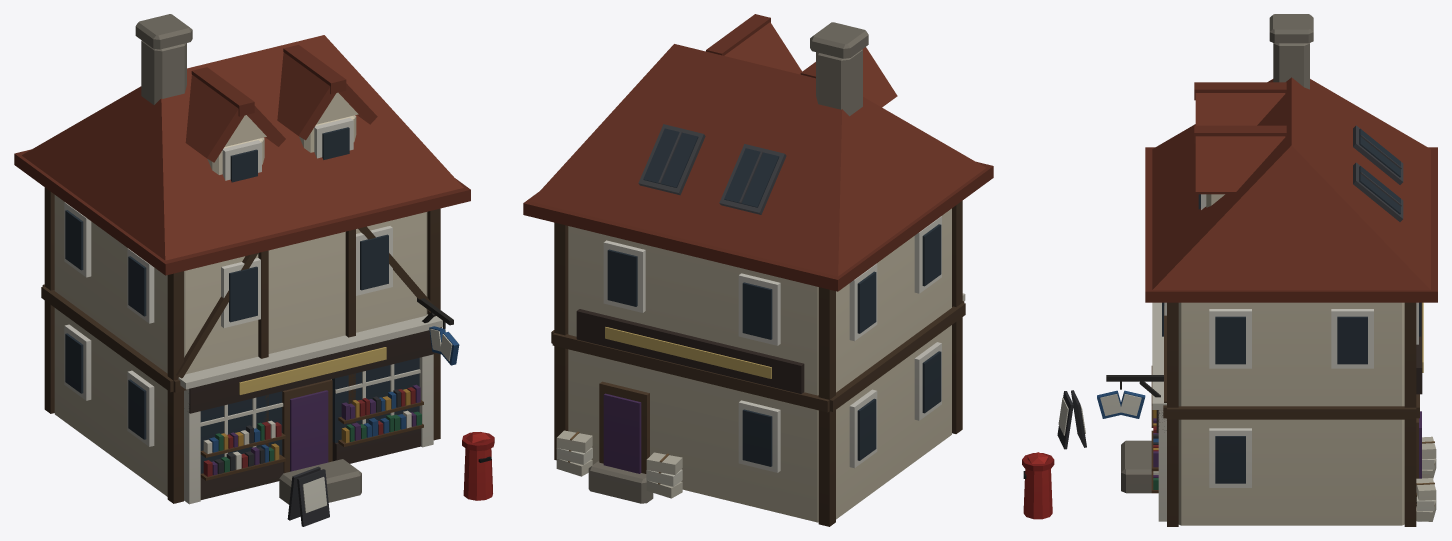
File: stationer.glb
3 renders of one model, left to right at view 1: azimuth 30°, elevation 25°; view 2: azimuth 150°, elevation 25°; view 3: azimuth 270°, elevation 25°, orthographic. The views are drawn at different scales.
Visible parts, largest first — view 1: stationer_model; view 2: stationer_model; view 3: stationer_model.
Boxes of the visible parts, x1=… form: stationer_model: x1=14, y1=14, x2=494, y2=526; stationer_model: x1=523, y1=14, x2=993, y2=526; stationer_model: x1=1022, y1=14, x2=1437, y2=526.
Size of the model in its own units: 0.7 by 0.9466 by 0.853.
